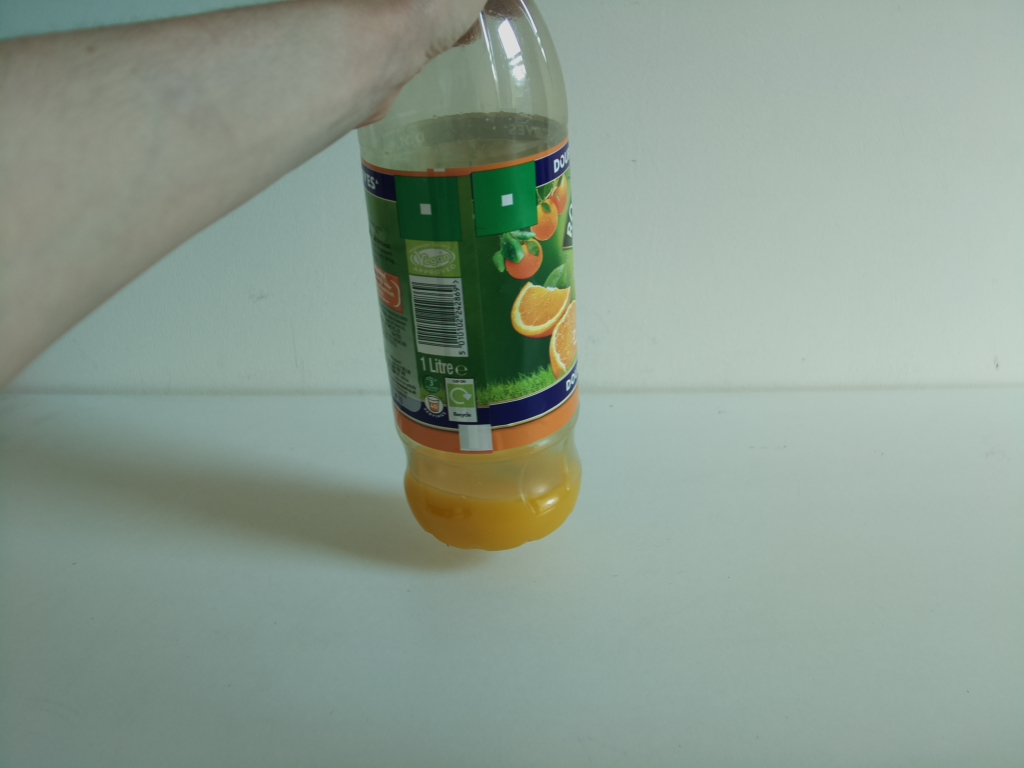juice: (359, 1, 582, 552)
